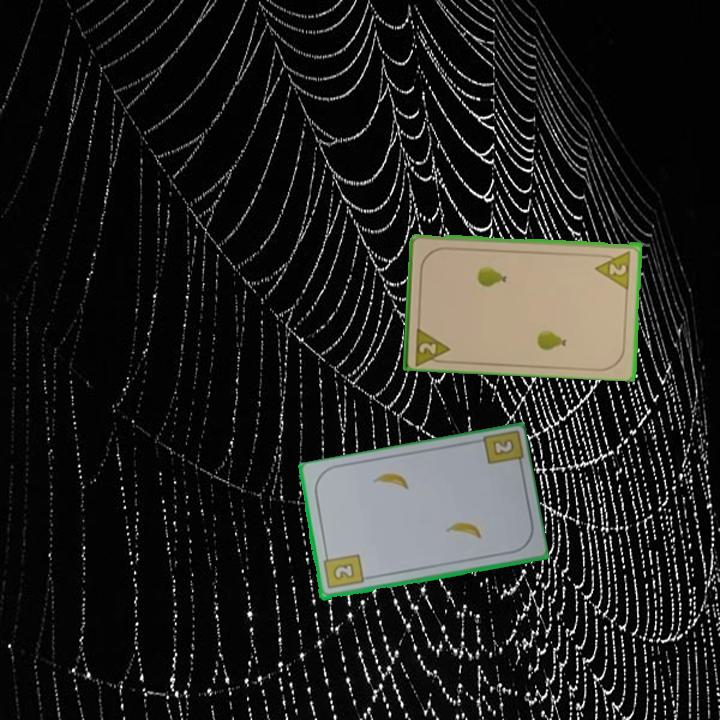2b: (320, 550, 366, 592), (491, 438, 515, 456)
2p: (592, 246, 634, 290), (415, 339, 439, 356)
